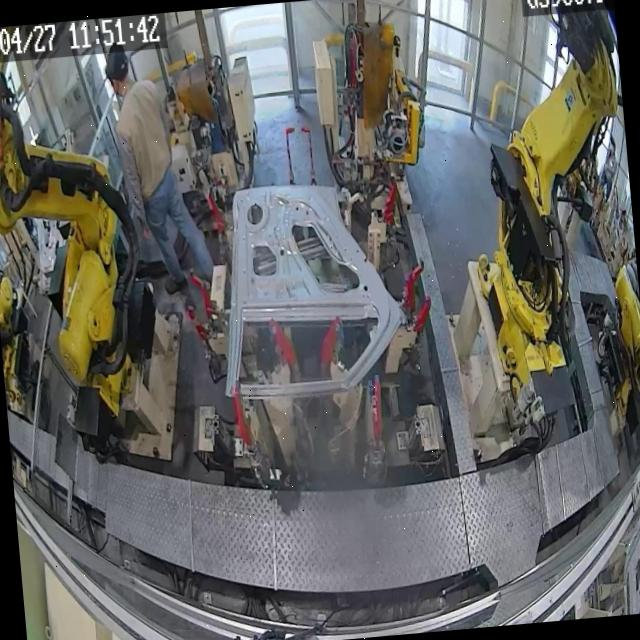Person: (101, 34, 218, 300)
